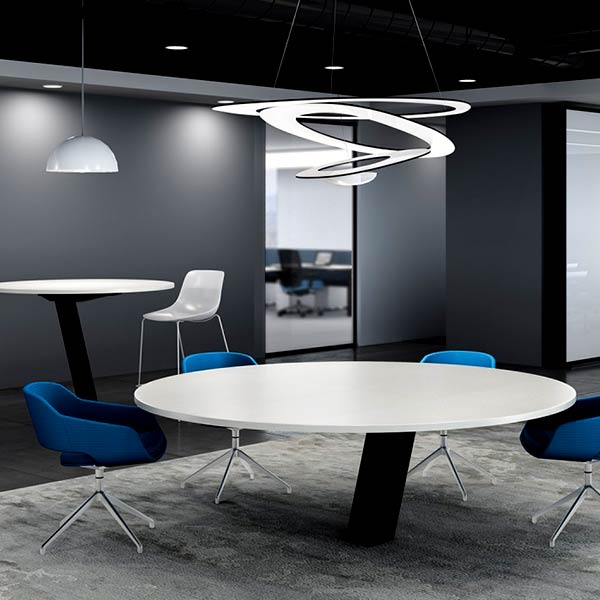conference_table: (134, 360, 576, 538), (2, 278, 175, 402)
